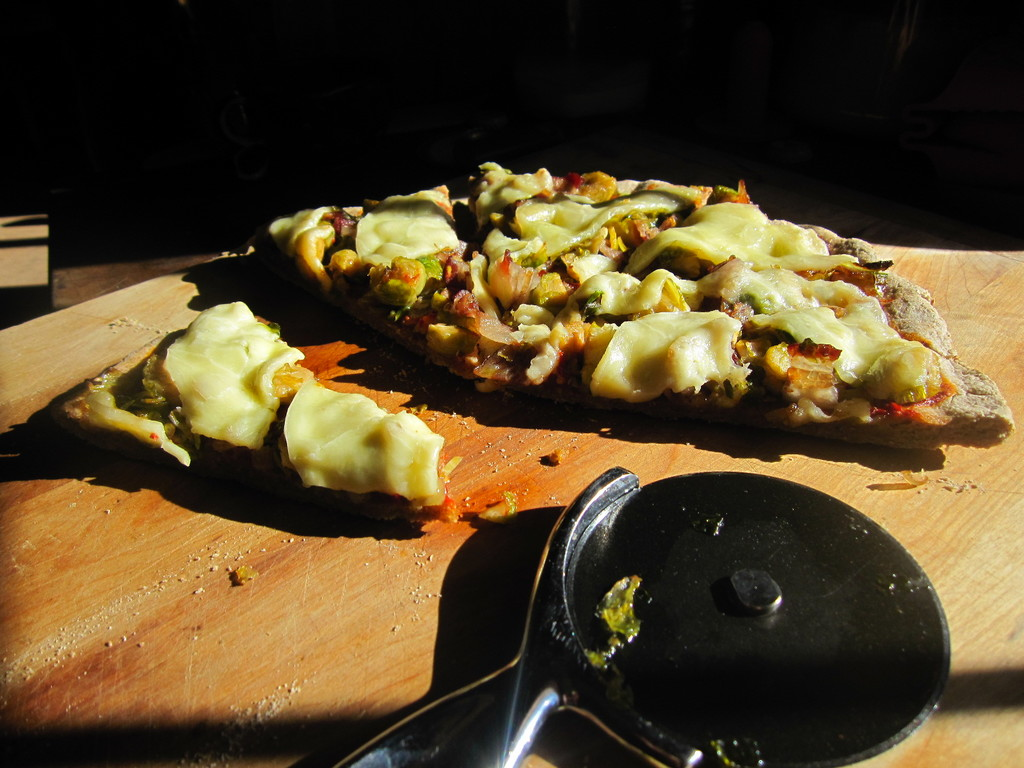Pizza: (262, 176, 961, 447)
